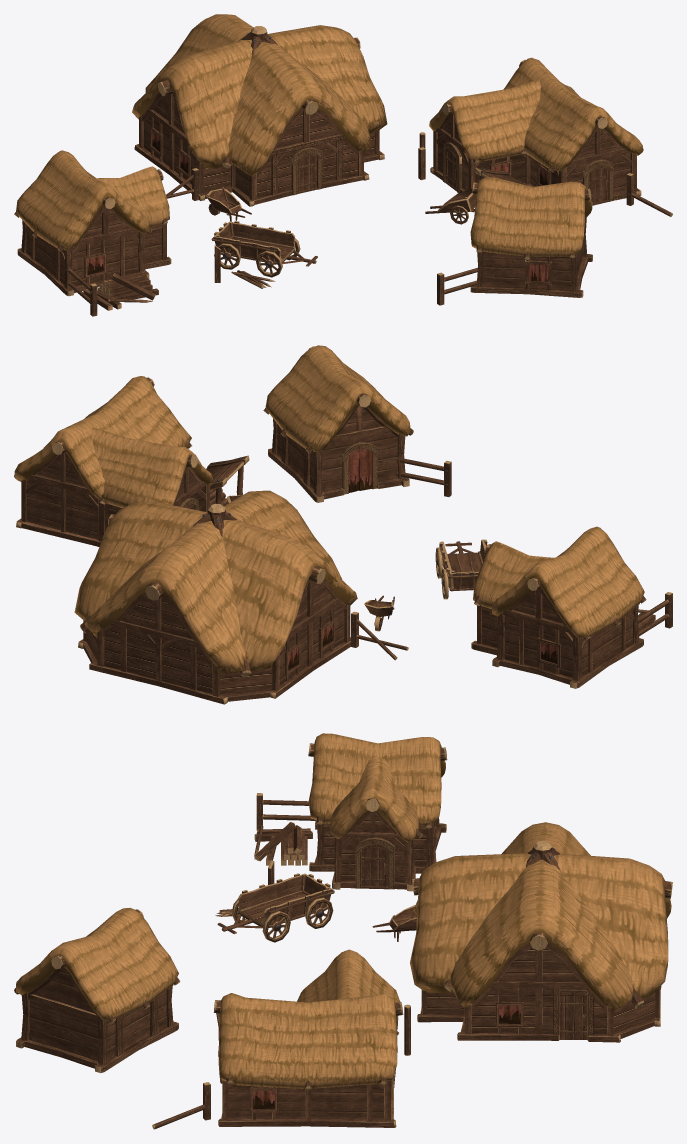
The model's file is Sketchfab_2021_08_19_03_26_50.fbx.
3 views of the same model, one above another, from view 1: azimuth 30°, elevation 25°; view 2: azimuth 150°, elevation 25°; view 3: azimuth 270°, elevation 25° (orthographic). The views are drawn at different scales.
Visible parts, largest first — view 1: WoodCover.009, House3.001, House2.003, WoodCover.010, Cart3, WoodPile, Cart2, Cart, WoodenFence2, WoodenFence, WoodenFence4; view 2: WoodCover.009, House2.003, House3.001, WoodCover.010, Cart3, WoodCover, WoodenFence2, WoodenFence5, WoodenFence, Cart; view 3: WoodCover.009, House3.001, House2.003, WoodCover.010, Cart3, WoodPile, WoodenFence, Cart, WoodenFence4.
Boxes of the visible parts, bbox=[...] form: WoodCover.009: bbox=[132, 14, 387, 206]; House3.001: bbox=[429, 57, 643, 205]; House2.003: bbox=[14, 150, 171, 296]; WoodCover.010: bbox=[470, 177, 592, 297]; Cart3: bbox=[211, 221, 317, 277]; WoodPile: bbox=[83, 270, 158, 310]; Cart2: bbox=[425, 188, 476, 224]; Cart: bbox=[206, 187, 251, 221]; WoodenFence2: bbox=[437, 267, 478, 305]; WoodenFence: bbox=[65, 266, 97, 316]; WoodenFence4: bbox=[626, 173, 672, 216]; WoodCover.009: bbox=[74, 490, 357, 704]; House2.003: bbox=[471, 526, 646, 688]; House3.001: bbox=[14, 376, 213, 546]; WoodCover.010: bbox=[263, 345, 413, 502]; Cart3: bbox=[435, 539, 487, 599]; WoodCover: bbox=[206, 455, 249, 503]; WoodenFence2: bbox=[396, 458, 451, 496]; WoodenFence5: bbox=[351, 611, 408, 660]; WoodenFence: bbox=[633, 592, 672, 643]; Cart: bbox=[364, 595, 394, 631]; WoodCover.009: bbox=[410, 822, 672, 1042]; House3.001: bbox=[213, 949, 403, 1127]; House2.003: bbox=[308, 733, 447, 891]; WoodCover.010: bbox=[14, 908, 180, 1073]; Cart3: bbox=[217, 873, 334, 942]; WoodPile: bbox=[254, 822, 312, 865]; WoodenFence: bbox=[256, 793, 316, 830]; Cart: bbox=[372, 905, 416, 941]; WoodenFence4: bbox=[152, 1082, 210, 1129].
Bounding box in the file's own units: 2016 × 457 × 1805.
